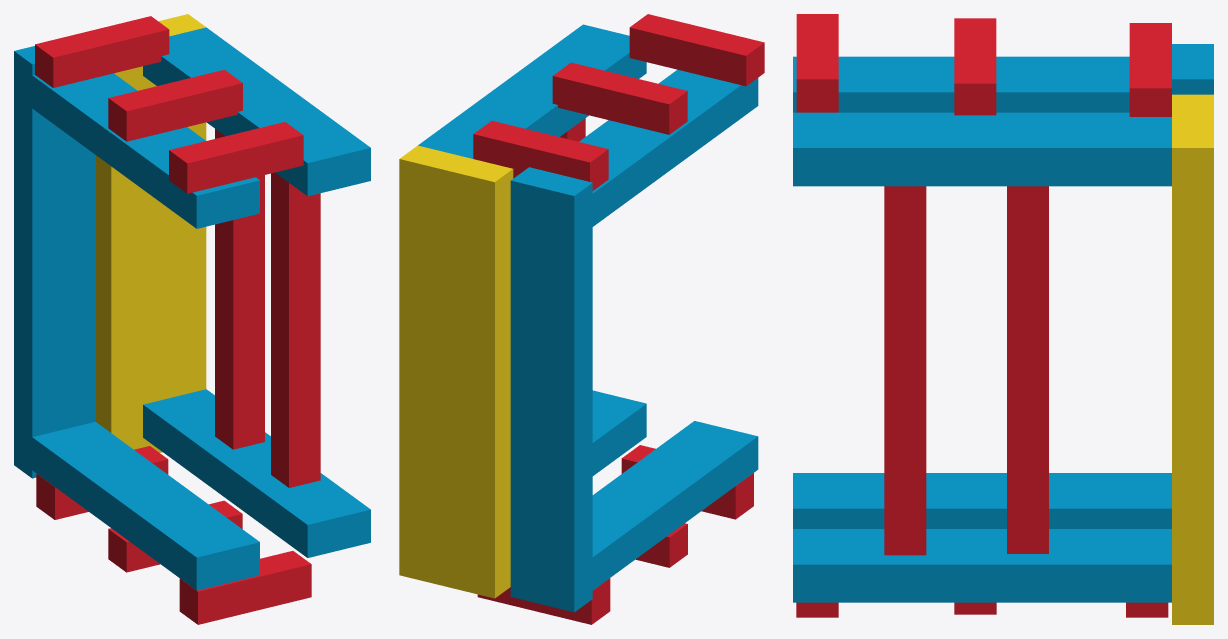
File: tinker.obj
The picture shows the model from 3 angles, left to right: view 1: azimuth 30°, elevation 25°; view 2: azimuth 150°, elevation 25°; view 3: azimuth 270°, elevation 25°; orthographic projection. The views are drawn at different scales.
Visible parts, largest first — view 1: group_0_40919, group_0_15277357, group_0_16768282; view 2: group_0_40919, group_0_16768282, group_0_15277357; view 3: group_0_40919, group_0_15277357, group_0_16768282.
Part boxes in pixels (x1,y1,x2,y2): group_0_40919: [14, 27, 370, 590]; group_0_15277357: [35, 16, 320, 624]; group_0_16768282: [95, 14, 206, 452]; group_0_40919: [418, 24, 758, 612]; group_0_16768282: [399, 145, 513, 598]; group_0_15277357: [473, 14, 764, 624]; group_0_40919: [793, 44, 1213, 602]; group_0_15277357: [796, 14, 1171, 617]; group_0_16768282: [1172, 94, 1213, 624].
Size of the model in its own units: 69 by 168 by 120.
